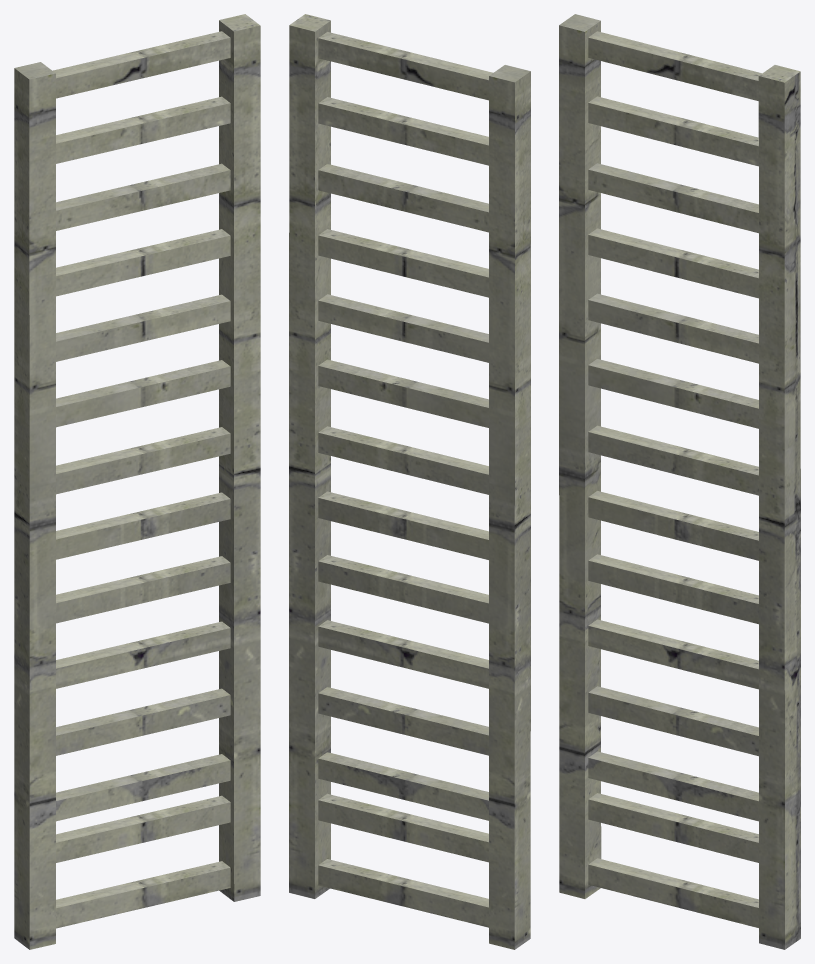
The model's file is SM_Scaffoldingue_Echelles_01.fbx.
3 renders of one model, left to right at view 1: azimuth 30°, elevation 25°; view 2: azimuth 150°, elevation 25°; view 3: azimuth 330°, elevation 25°, orthographic.
Parts seen in each view (by area): view 1: SM_Scaffoldingue_Echelles_01; view 2: SM_Scaffoldingue_Echelles_01; view 3: SM_Scaffoldingue_Echelles_01.
Boxes of the visible parts, <box> form: SM_Scaffoldingue_Echelles_01: <box>14,14,260,949</box>; SM_Scaffoldingue_Echelles_01: <box>289,14,530,949</box>; SM_Scaffoldingue_Echelles_01: <box>559,14,800,949</box>.
Bounding box in the file's own units: 143 × 519 × 19.37.
